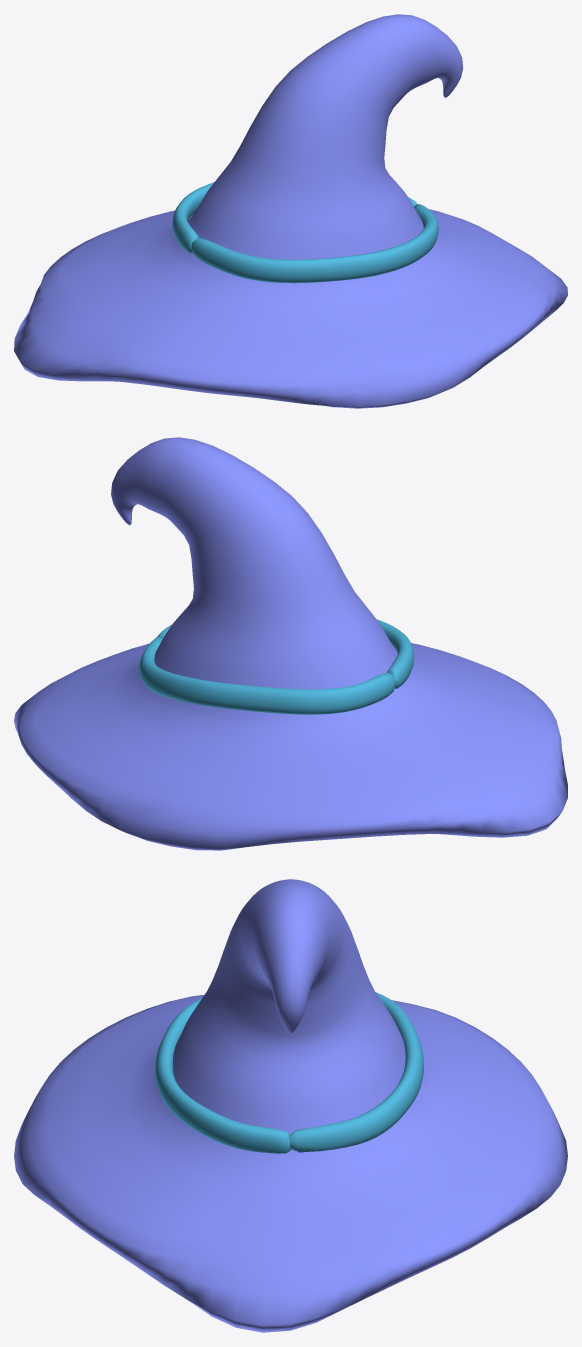
Rendered from WitchHat.fbx.
The picture shows the model from 3 angles, top to bottom: view 1: azimuth 30°, elevation 25°; view 2: azimuth 150°, elevation 25°; view 3: azimuth 270°, elevation 25°; orthographic projection. The views are drawn at different scales.
Visible parts, largest first — view 1: Cube.001; view 2: Cube.001; view 3: Cube.001.
Part boxes in pixels (x1=…): Cube.001: x1=14, y1=14, x2=567, y2=408; Cube.001: x1=14, y1=437, x2=567, y2=850; Cube.001: x1=14, y1=879, x2=567, y2=1332.
Bounding box in the file's own units: 488 × 270 × 386.
